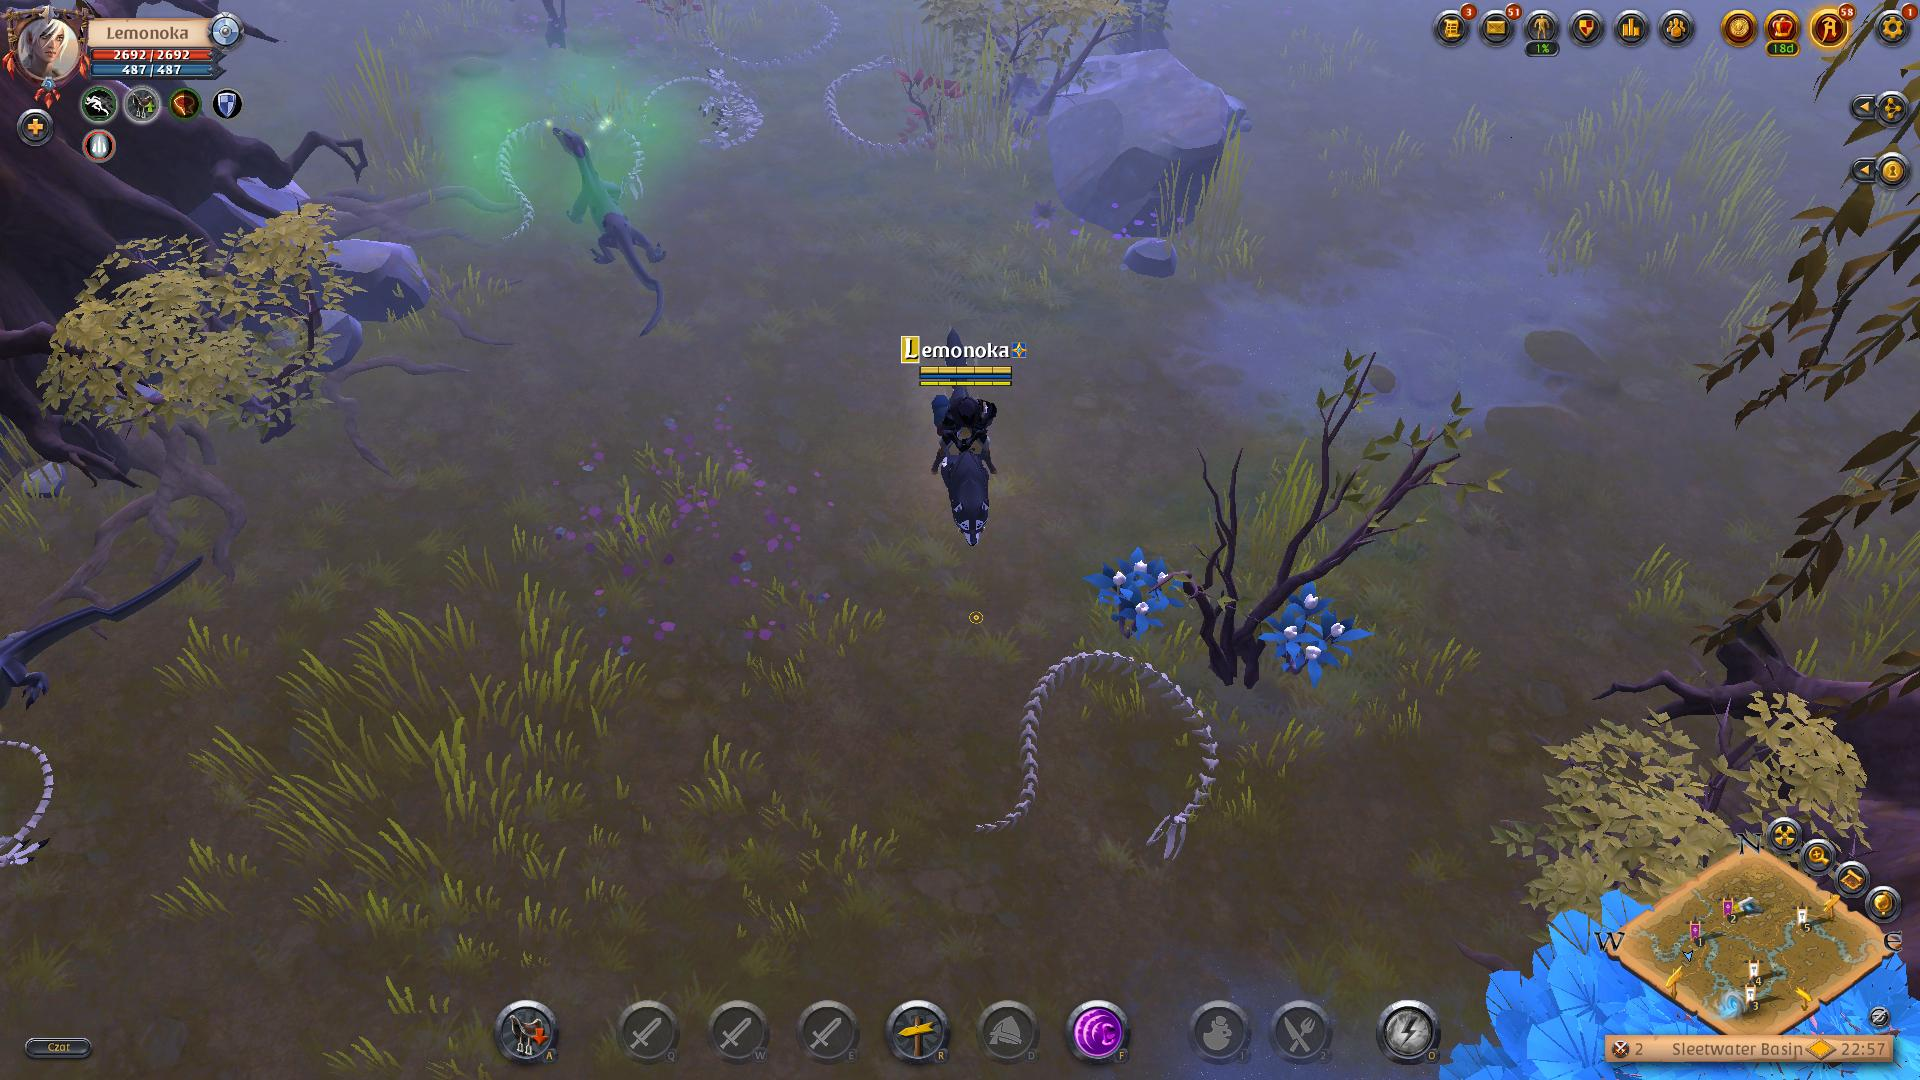fiber tier 4: (1262, 583, 1371, 690), (1091, 549, 1185, 638)
